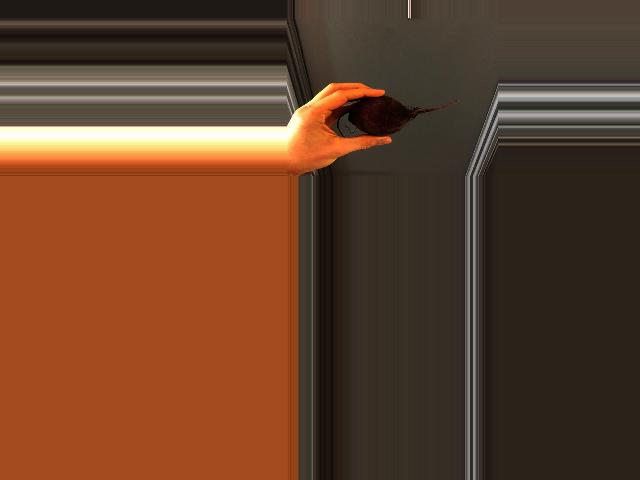beet: (338, 96, 463, 137)
